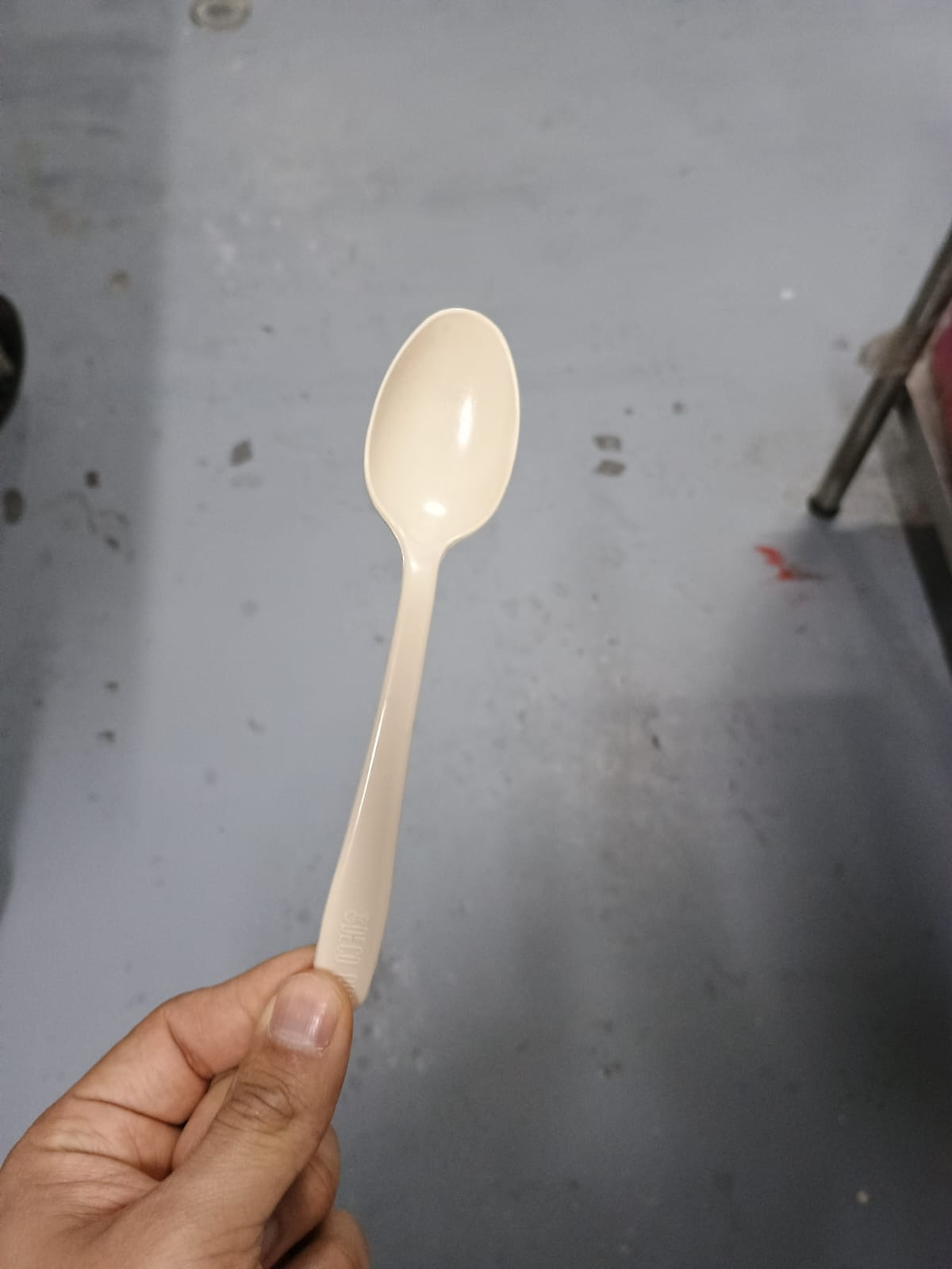Ordinario: (308, 308, 520, 986)
